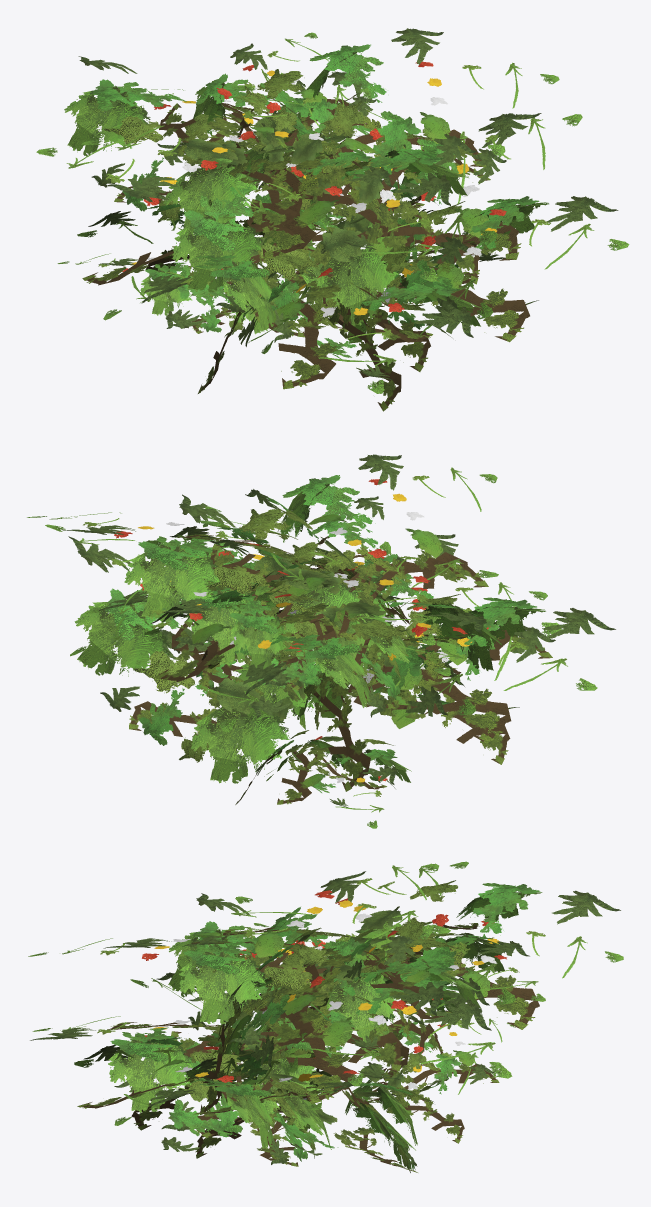
Rendered from Arbre_009_Feuillage.fbx.
3 renders of one model, top to bottom at view 1: azimuth 30°, elevation 25°; view 2: azimuth 150°, elevation 25°; view 3: azimuth 270°, elevation 25°, orthographic. The views are drawn at different scales.
Parts seen in each view (by area): view 1: Arbre_009_Feuillage; view 2: Arbre_009_Feuillage; view 3: Arbre_009_Feuillage.
Boxes of the visible parts, x1,y1,x2,y2 form: Arbre_009_Feuillage: [36, 28, 629, 411]; Arbre_009_Feuillage: [27, 454, 615, 828]; Arbre_009_Feuillage: [28, 861, 623, 1172].
Size of the model in its own units: 5.9 by 2.66 by 6.3.
